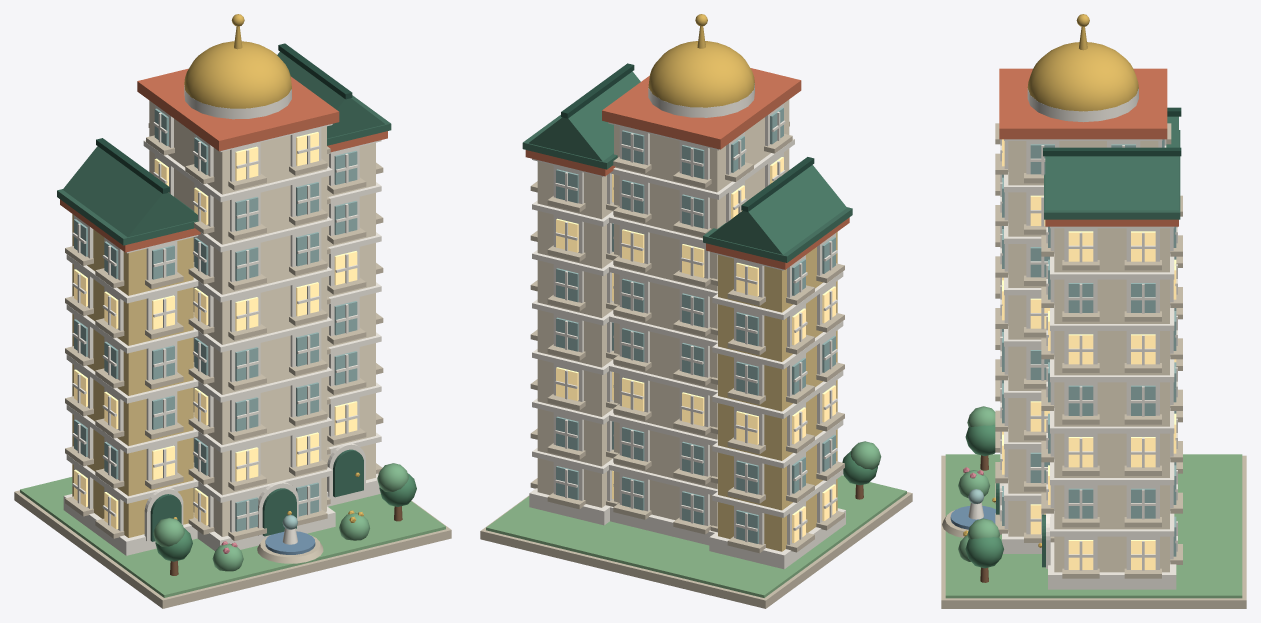
The model's file is metropole.glb.
3 views of the same model, side by side, from view 1: azimuth 30°, elevation 25°; view 2: azimuth 150°, elevation 25°; view 3: azimuth 270°, elevation 25° (orthographic). The views are drawn at different scales.
Parts seen in each view (by area): view 1: metropole_white, metropole_cream, metropole_stone, metropole_glass, metropole_green, metropole_yellow, metropole_lawn, metropole_glassLight, metropole_coral, metropole_gold, metropole_leafLight, metropole_greenDark (+2 smaller); view 2: metropole_white, metropole_cream, metropole_stone, metropole_glass, metropole_lawn, metropole_yellow, metropole_green, metropole_coral, metropole_glassLight, metropole_gold, metropole_greenDark, metropole_leafLight (+1 smaller); view 3: metropole_white, metropole_cream, metropole_stone, metropole_lawn, metropole_green, metropole_coral, metropole_glassLight, metropole_glass, metropole_gold, metropole_leafLight, metropole_leaf, metropole_greenDark (+1 smaller).
Boxes of the visible parts, bbox=[...] form: metropole_white: bbox=[63, 85, 381, 555]; metropole_cream: bbox=[149, 100, 375, 536]; metropole_stone: bbox=[14, 123, 451, 608]; metropole_glass: bbox=[74, 108, 357, 531]; metropole_green: bbox=[57, 51, 391, 541]; metropole_yellow: bbox=[72, 214, 193, 537]; metropole_lawn: bbox=[20, 477, 445, 597]; metropole_glassLight: bbox=[74, 132, 357, 529]; metropole_coral: bbox=[60, 68, 387, 252]; metropole_gold: bbox=[173, 14, 363, 522]; metropole_leafLight: bbox=[153, 463, 408, 571]; metropole_greenDark: bbox=[96, 43, 352, 193]; metropole_white: bbox=[529, 83, 845, 569]; metropole_cream: bbox=[537, 99, 789, 526]; metropole_stone: bbox=[480, 121, 912, 608]; metropole_glass: bbox=[556, 107, 835, 543]; metropole_lawn: bbox=[486, 475, 906, 597]; metropole_yellow: bbox=[718, 232, 837, 551]; metropole_green: bbox=[522, 71, 852, 262]; metropole_coral: bbox=[525, 68, 849, 269]; metropole_glassLight: bbox=[556, 157, 835, 542]; metropole_gold: bbox=[648, 14, 754, 107]; metropole_greenDark: bbox=[561, 63, 814, 211]; metropole_leafLight: bbox=[850, 441, 881, 469]; metropole_white: bbox=[968, 88, 1177, 589]; metropole_cream: bbox=[1008, 141, 1169, 572]; metropole_stone: bbox=[941, 123, 1246, 608]; metropole_lawn: bbox=[945, 454, 1242, 598]; metropole_green: bbox=[996, 116, 1180, 567]; metropole_coral: bbox=[999, 68, 1178, 226]; metropole_glassLight: bbox=[1002, 139, 1176, 569]; metropole_glass: bbox=[968, 139, 1176, 556]; metropole_gold: bbox=[963, 14, 1138, 547]; metropole_leafLight: bbox=[958, 406, 999, 561]; metropole_leaf: bbox=[965, 424, 1003, 568]; metropole_greenDark: bbox=[1043, 107, 1181, 156].
Size of the model in its own units: 3.2 by 5.38 by 2.85.
